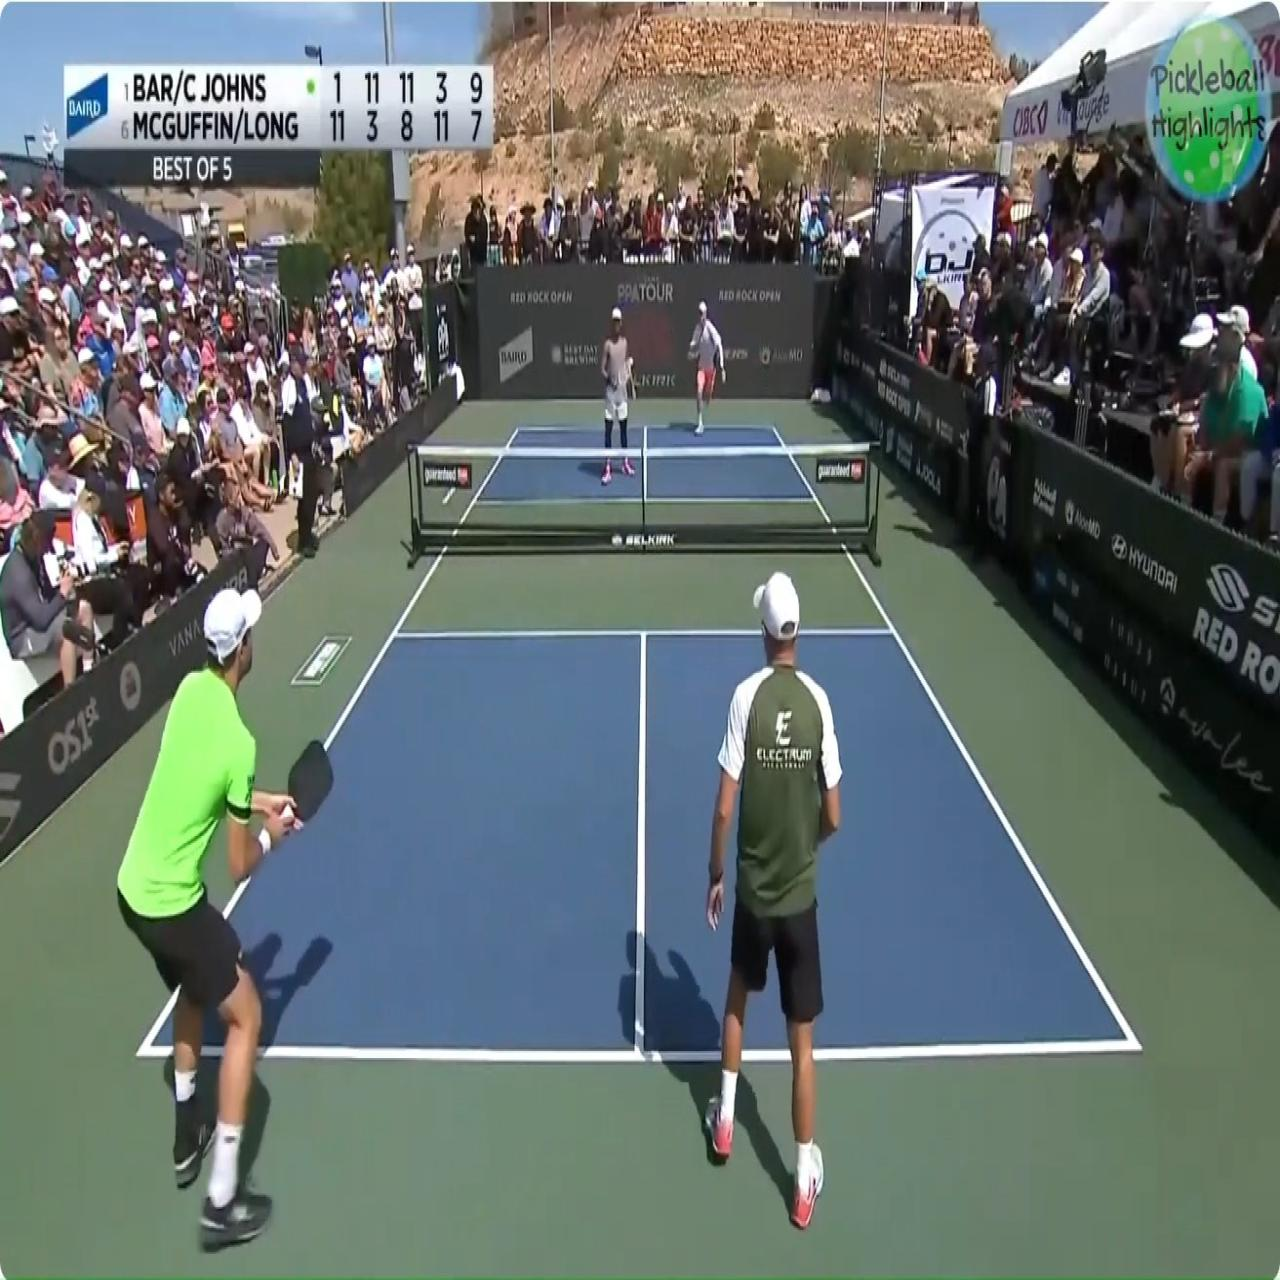pickleball: (628, 356, 634, 366)
